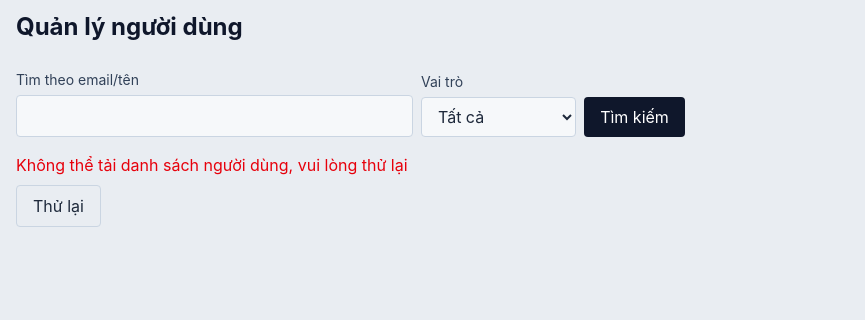
Test: Users › shows an error with retry when loading fails
Click the button "Thử lại". click: click(58, 206)
box: x1=16 y1=185 x2=101 y2=227
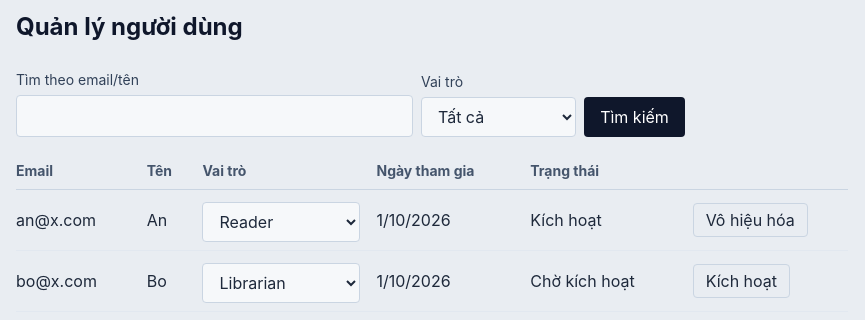
Expected: the text "an@x.com" is shown, x1=16 y1=190 x2=147 y2=250
